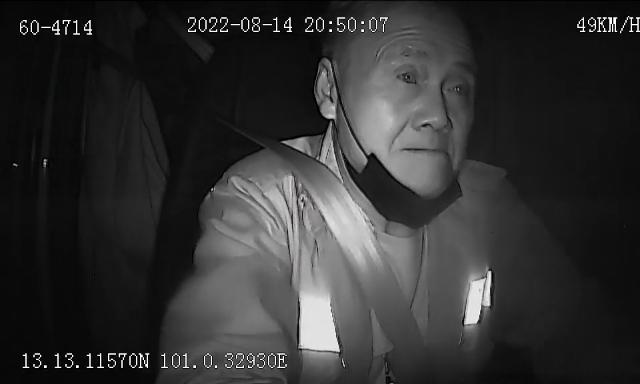SafeDriving: (438, 70, 474, 106), (390, 58, 425, 94)
Seatbelt: (228, 120, 430, 384)
